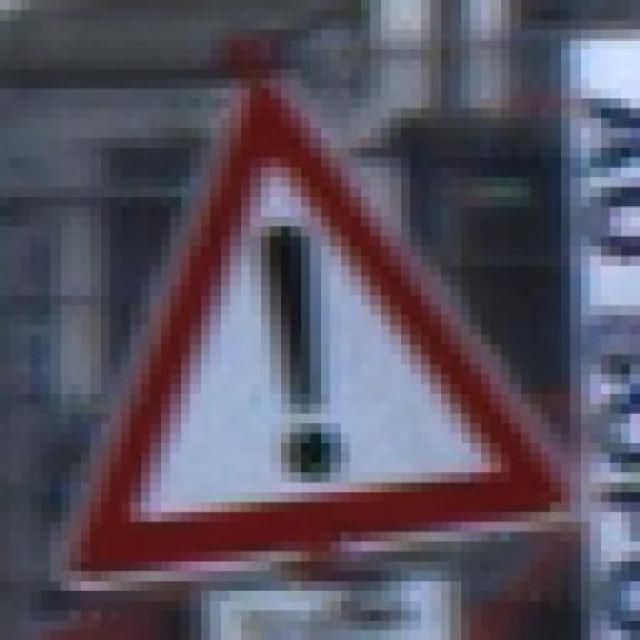Attention Please-: (37, 69, 577, 582)
